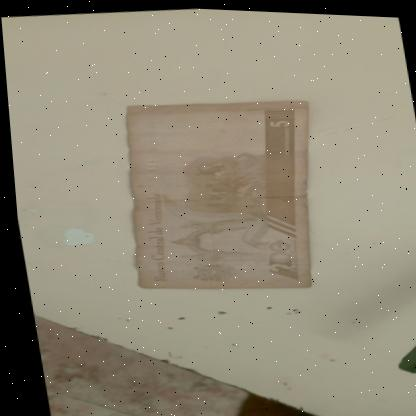vef_back: (104, 87, 335, 301)
